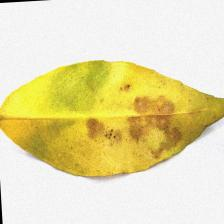black spot: (80, 86, 192, 154)
